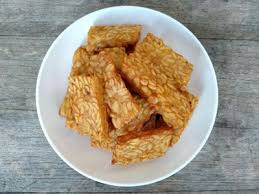Tempe goreng: (121, 52, 191, 129), (63, 74, 107, 142), (111, 127, 172, 169), (84, 23, 144, 48)
